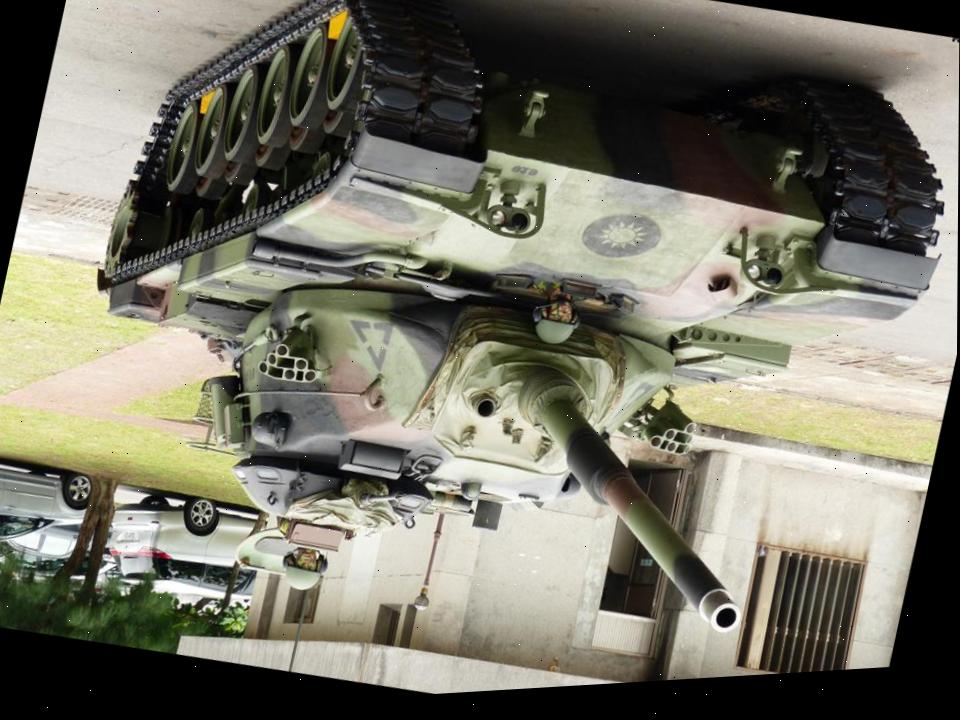tank: (31, 0, 960, 716)
